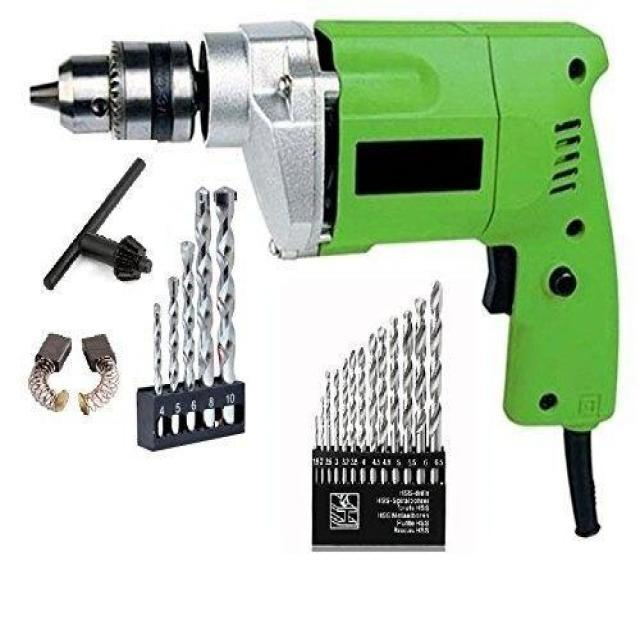drill: (29, 18, 621, 541)
